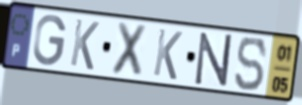G: (32, 13, 69, 68)
K: (151, 26, 184, 83), (68, 17, 101, 73)
N: (194, 31, 234, 89)
S: (233, 35, 269, 93)
X: (109, 20, 150, 81)
